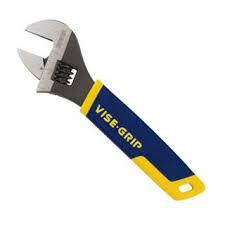wrench: (15, 17, 206, 201)
